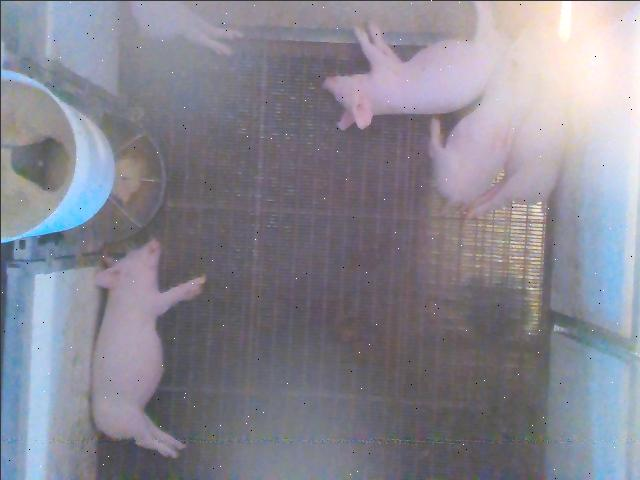pig-4: (429, 28, 540, 204)
